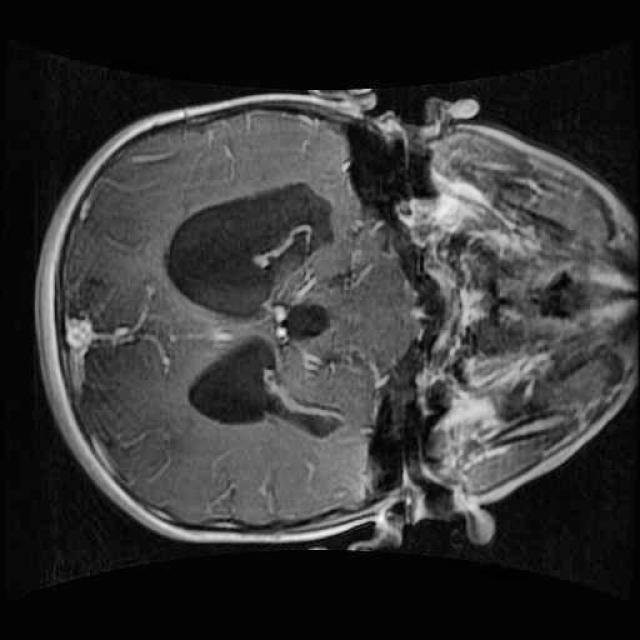Non-Tumor: (226, 172, 351, 306)
